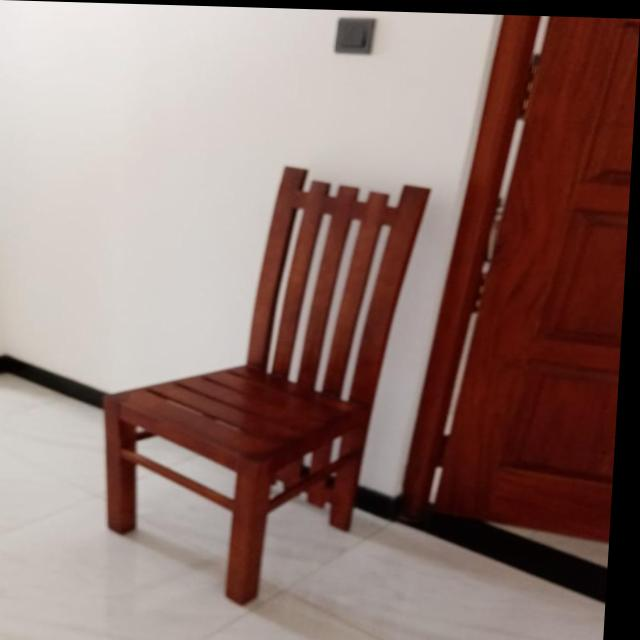Chair: (100, 156, 436, 608)
